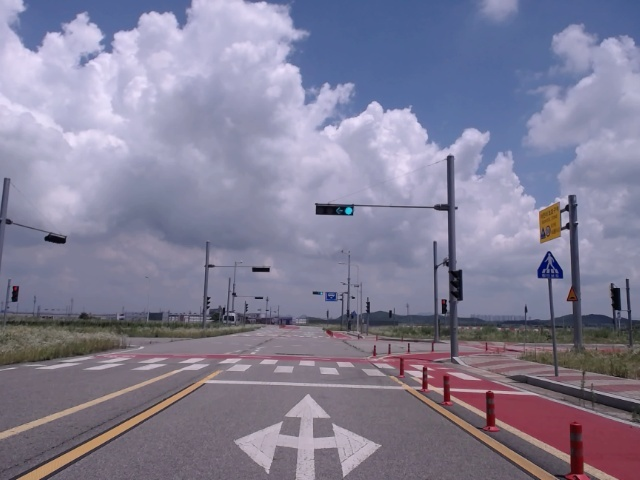all_green_4: (316, 201, 353, 215)
